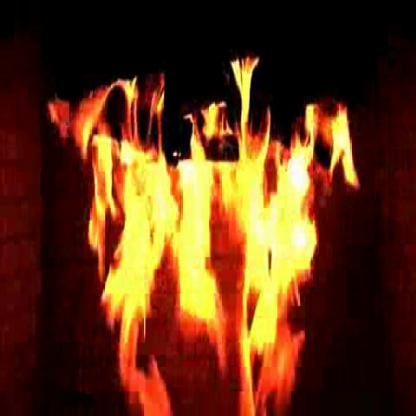Fire: (99, 145, 315, 345)
